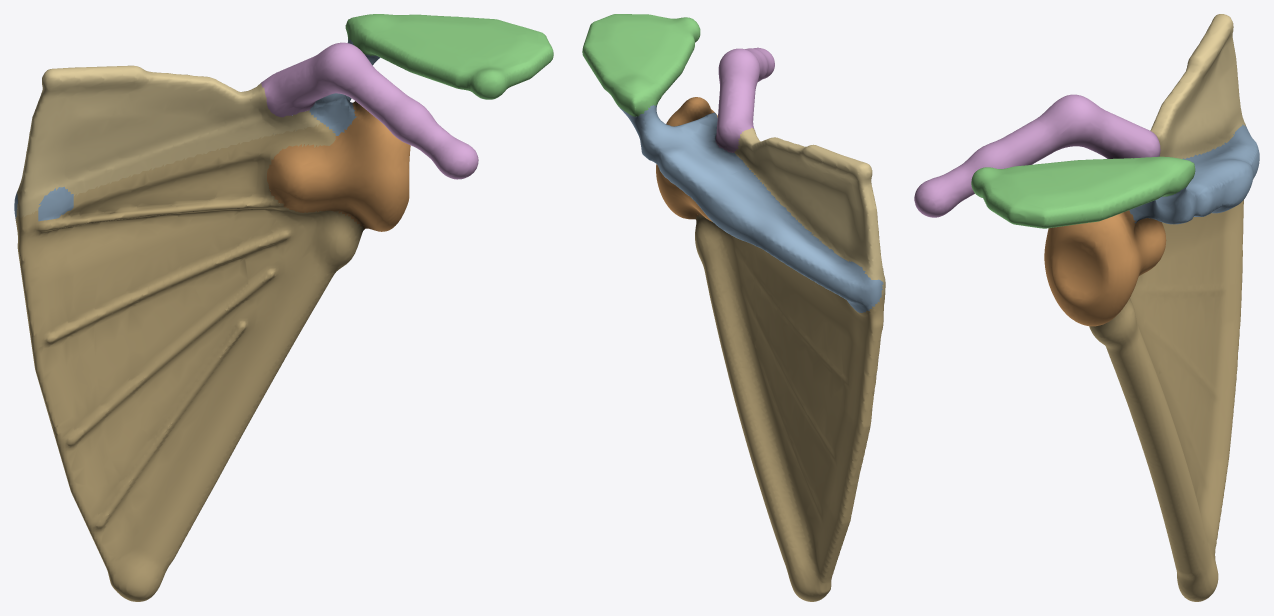
Rendered from esqueleto-escapula.glb.
3 renders of one model, left to right at view 1: azimuth 30°, elevation 25°; view 2: azimuth 150°, elevation 25°; view 3: azimuth 270°, elevation 25°, orthographic. The views are drawn at different scales.
Visible parts, largest first — view 1: scapula_L_infraspinous_fossa, scapula_L_supraspinous_fossa, scapula_L_acromion, scapula_L_glenoid, scapula_L_coracoid, scapula_L_spine; view 2: scapula_L_infraspinous_fossa, scapula_L_spine, scapula_L_supraspinous_fossa, scapula_L_acromion, scapula_L_coracoid, scapula_L_glenoid; view 3: scapula_L_infraspinous_fossa, scapula_L_acromion, scapula_L_glenoid, scapula_L_coracoid, scapula_L_supraspinous_fossa, scapula_L_spine.
Boxes of the visible parts, x1,y1,x2,y2 form: scapula_L_infraspinous_fossa: (15,123,364,601); scapula_L_supraspinous_fossa: (16,65,321,217); scapula_L_acromion: (345,14,553,99); scapula_L_glenoid: (267,101,410,231); scapula_L_coracoid: (260,42,478,179); scapula_L_spine: (14,39,380,221); scapula_L_infraspinous_fossa: (695,215,885,601); scapula_L_spine: (618,105,883,312); scapula_L_supraspinous_fossa: (734,127,885,294); scapula_L_acromion: (582,14,700,116); scapula_L_coracoid: (715,47,774,152); scapula_L_glenoid: (656,97,717,221); scapula_L_infraspinous_fossa: (1089,200,1243,601); scapula_L_acromion: (971,156,1195,228); scapula_L_glenoid: (1044,210,1166,326); scapula_L_coracoid: (914,94,1160,217); scapula_L_supraspinous_fossa: (1150,14,1246,158); scapula_L_spine: (1129,124,1259,224).
Bounding box in the file's own units: 0.1403 × 0.1737 × 0.0946.
